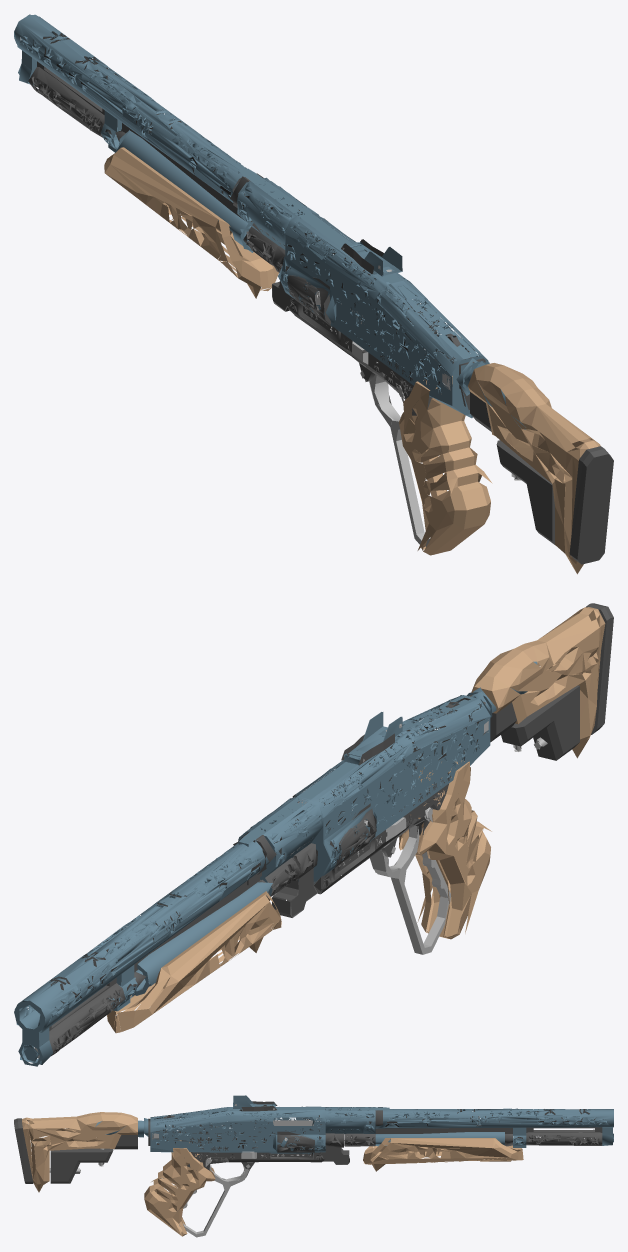
File: shotgun.glb
The picture shows the model from 3 angles, top to bottom: view 1: azimuth 30°, elevation 25°; view 2: azimuth 150°, elevation 25°; view 3: azimuth 270°, elevation 25°; orthographic projection. The views are drawn at different scales.
Size of the model in its own units: 0.0816 by 0.2994 by 1.18.
